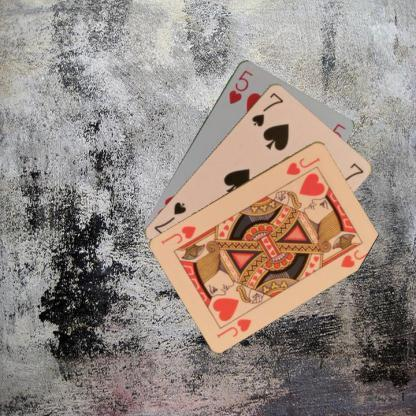5h: (225, 67, 254, 105)
7s: (249, 89, 285, 128)
Jh: (284, 154, 322, 176), (214, 316, 252, 338)
